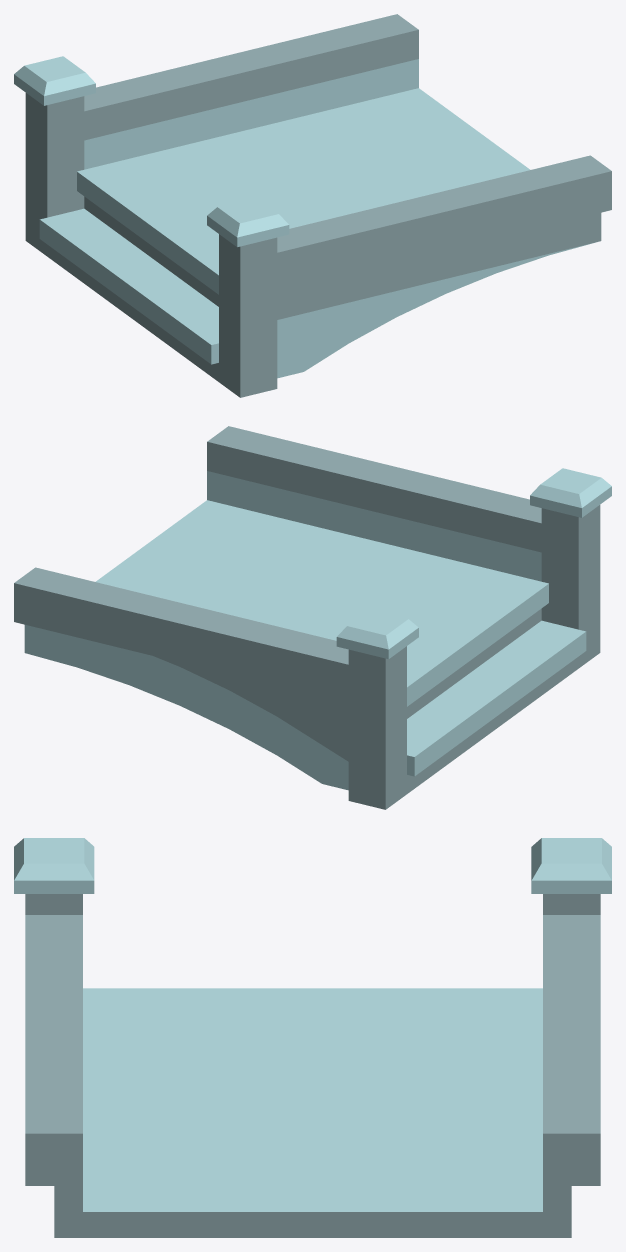
File: bridge_side_stoneRound.dae
The picture shows the model from 3 angles, top to bottom: view 1: azimuth 30°, elevation 25°; view 2: azimuth 150°, elevation 25°; view 3: azimuth 270°, elevation 25°; orthographic projection. The views are drawn at different scales.
Parts seen in each view (by area): view 1: bridge_side_stoneRound; view 2: bridge_side_stoneRound; view 3: bridge_side_stoneRound.
Part boxes in pixels (x1,y1,x2,y2): bridge_side_stoneRound: (14, 14, 611, 397); bridge_side_stoneRound: (14, 426, 611, 809); bridge_side_stoneRound: (14, 838, 611, 1237).
Size of the model in its own units: 1.02 by 0.45 by 1.04.
